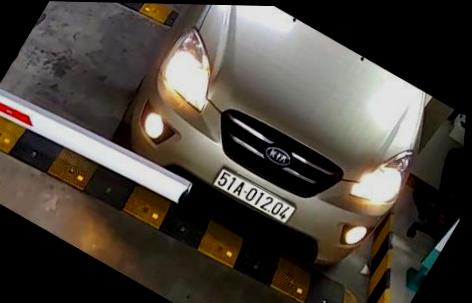License_Plate: (211, 164, 306, 225)
